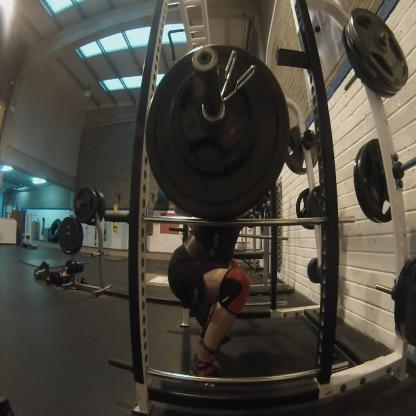barbell: (142, 42, 291, 221)
